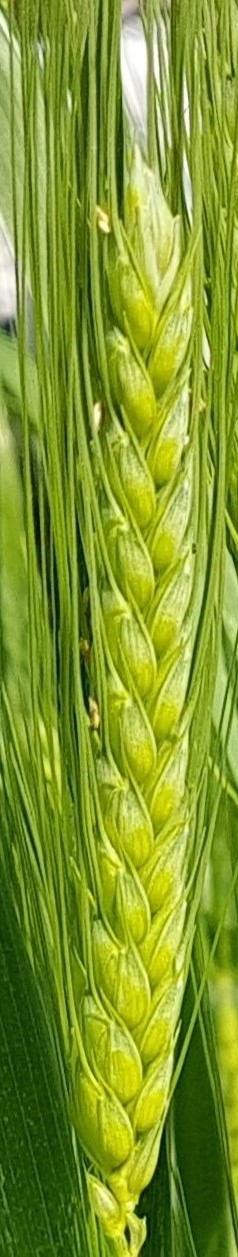Healthy Wheat: (28, 178, 234, 1191)
